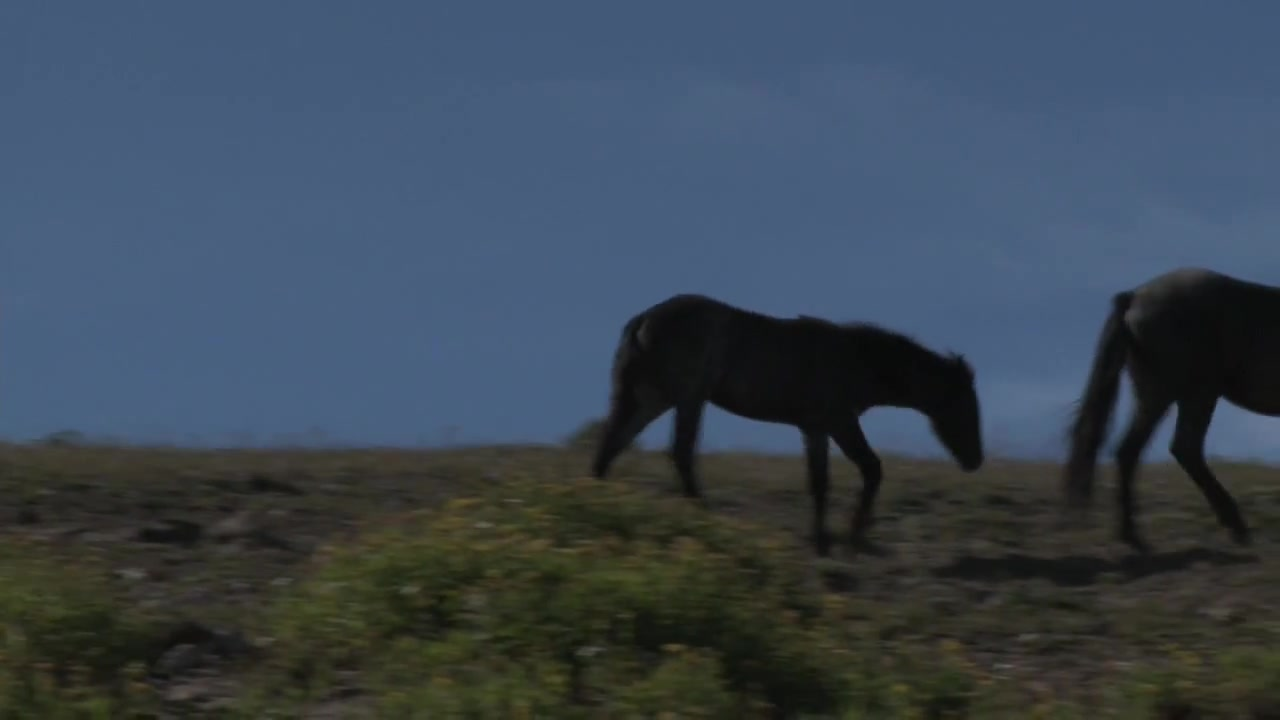horse: (588, 292, 988, 558), (1064, 266, 1280, 560)
